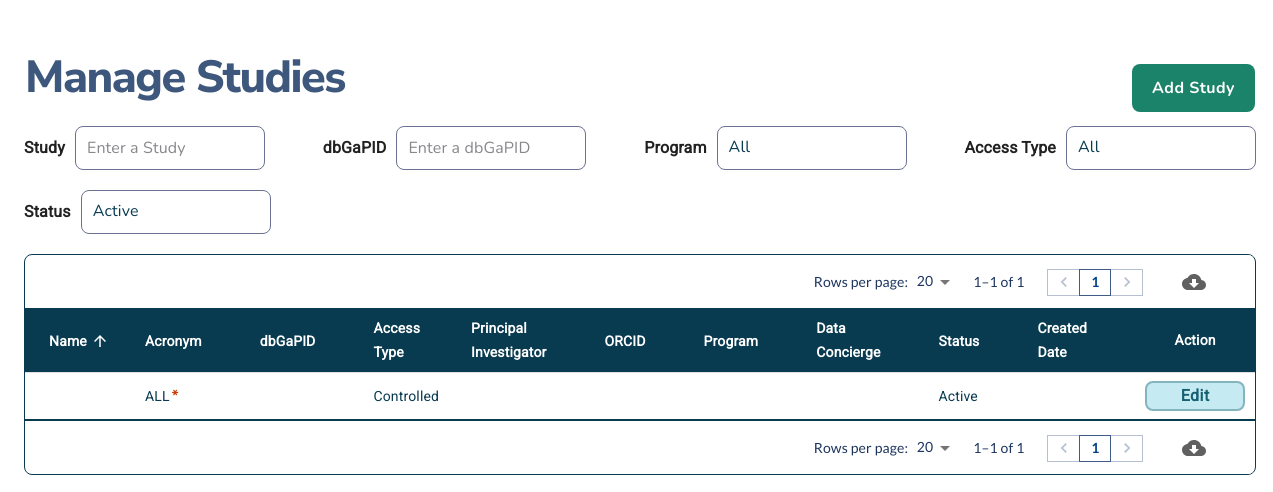
Test: Implementation Requirements › should render asterisk and all tooltips when all pending conditions are true
Expected: the text "ALL" is shown, [145,388,170,404]
Hover over the text with test id "asterisk-ALL" at (175, 396), box [172,385,179,407]
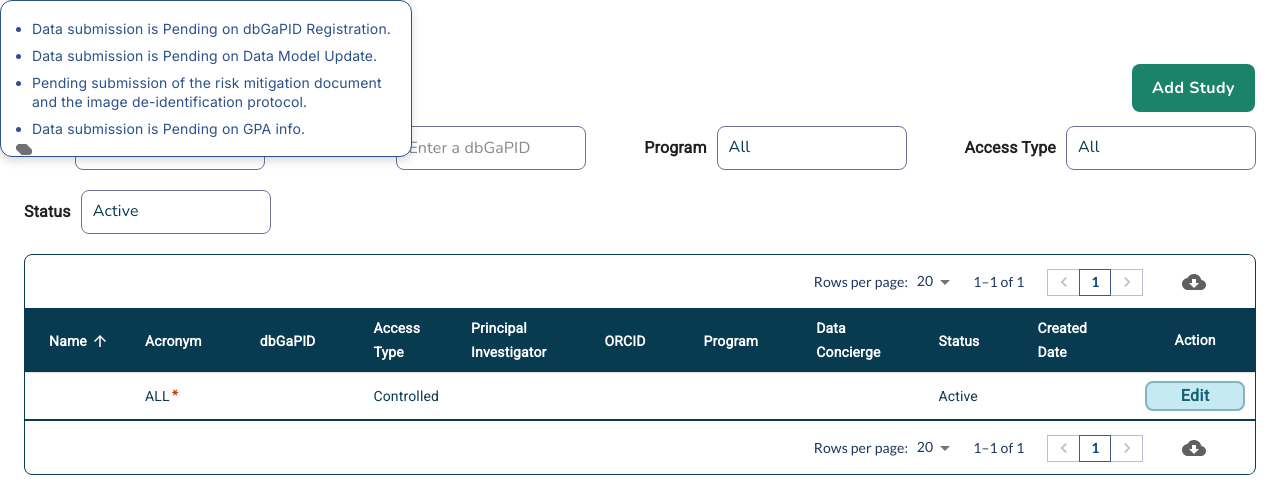
Now the list item "Data submission is Pending on GPA info." is shown, box [32,120,305,137]
